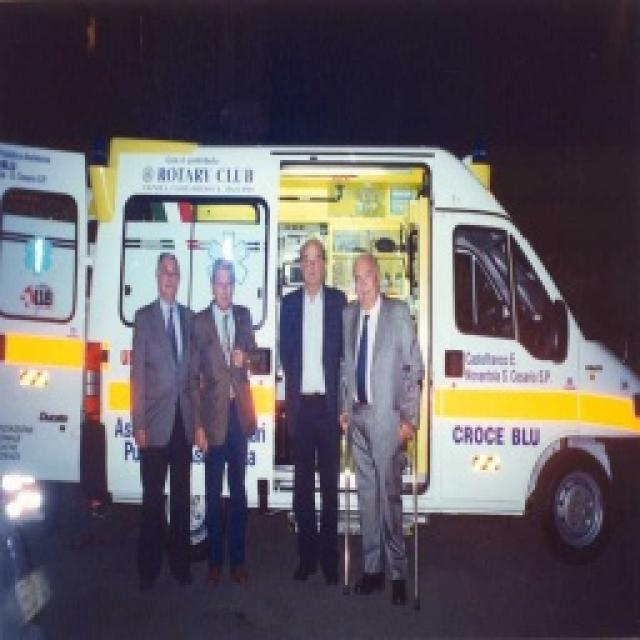emergency-vehicle: (0, 96, 640, 615)
